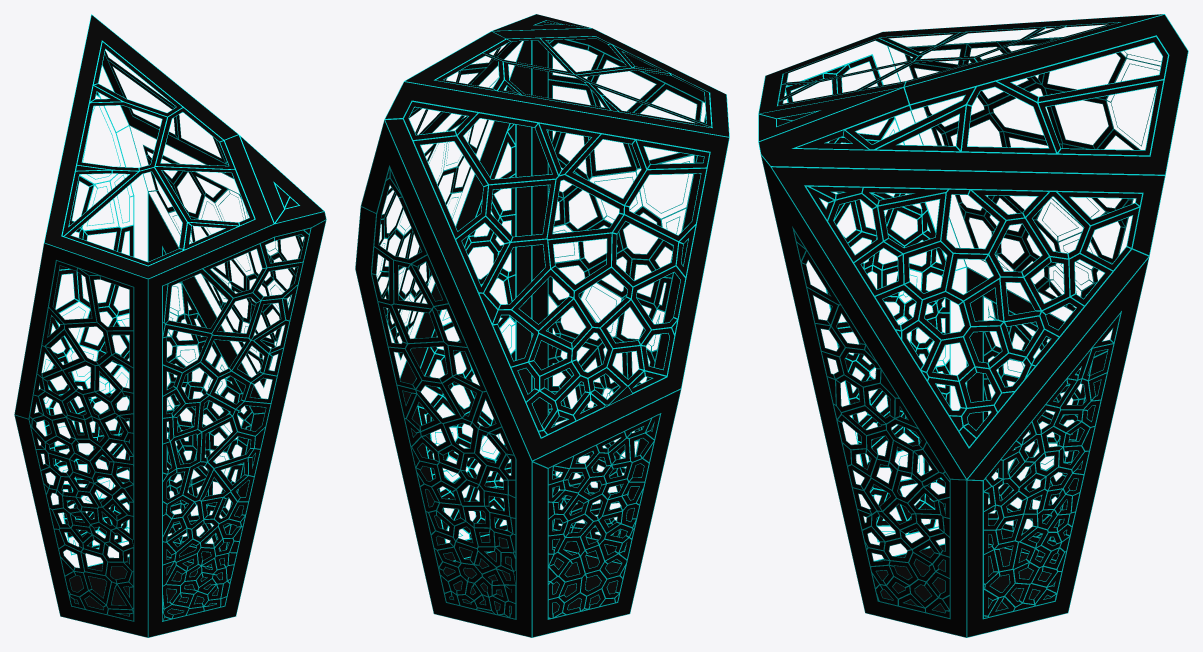
Rendered from Crystal-605-2.fbx.
3 views of the same model, side by side, from view 1: azimuth 30°, elevation 25°; view 2: azimuth 150°, elevation 25°; view 3: azimuth 270°, elevation 25° (orthographic). The views are drawn at different scales.
Parts seen in each view (by area): view 1: subnet1; view 2: subnet1; view 3: subnet1.
Boxes of the visible parts, box(x1,y1,x2,y2) form: subnet1: box(14, 14, 326, 637); subnet1: box(355, 14, 729, 637); subnet1: box(758, 14, 1188, 637).
Size of the model in its own units: 119 by 222 by 147.
